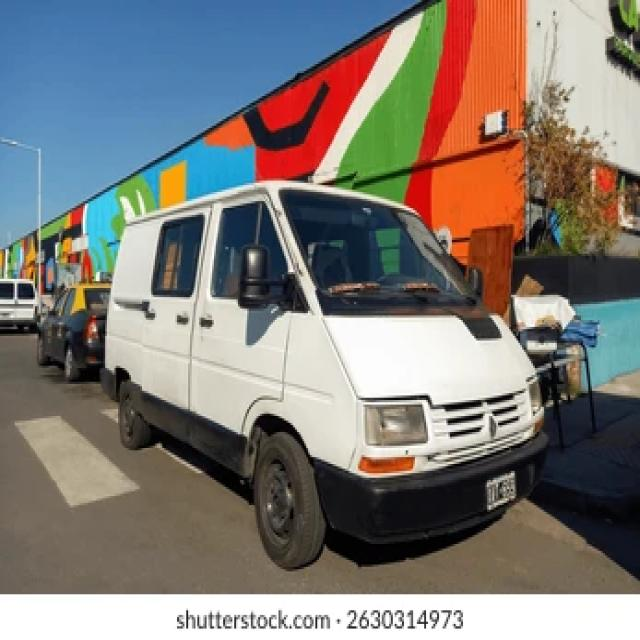renault: (486, 408, 498, 446)
